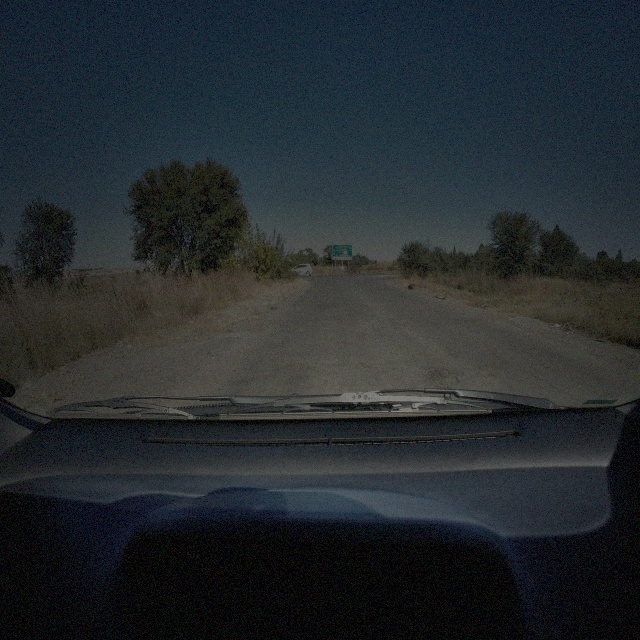pothole: (424, 364, 459, 386)
